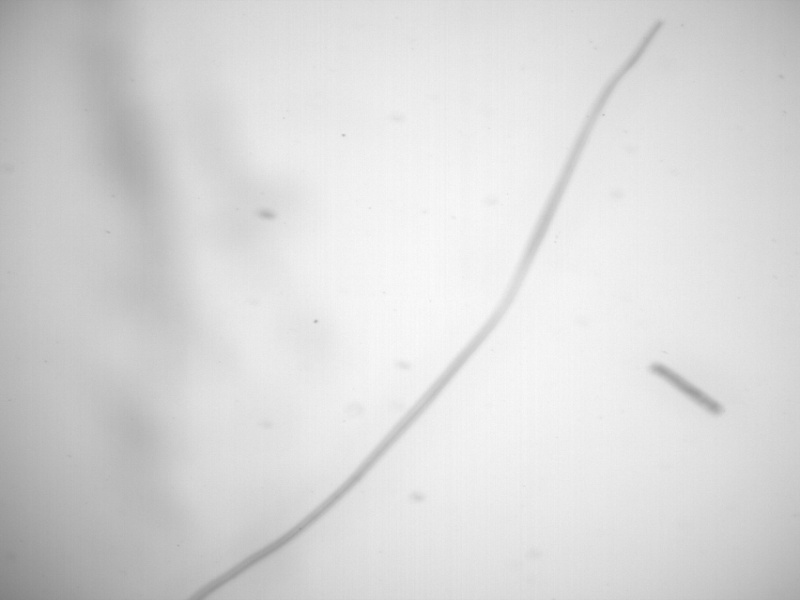fiber: (180, 16, 664, 599), (647, 359, 726, 420)
